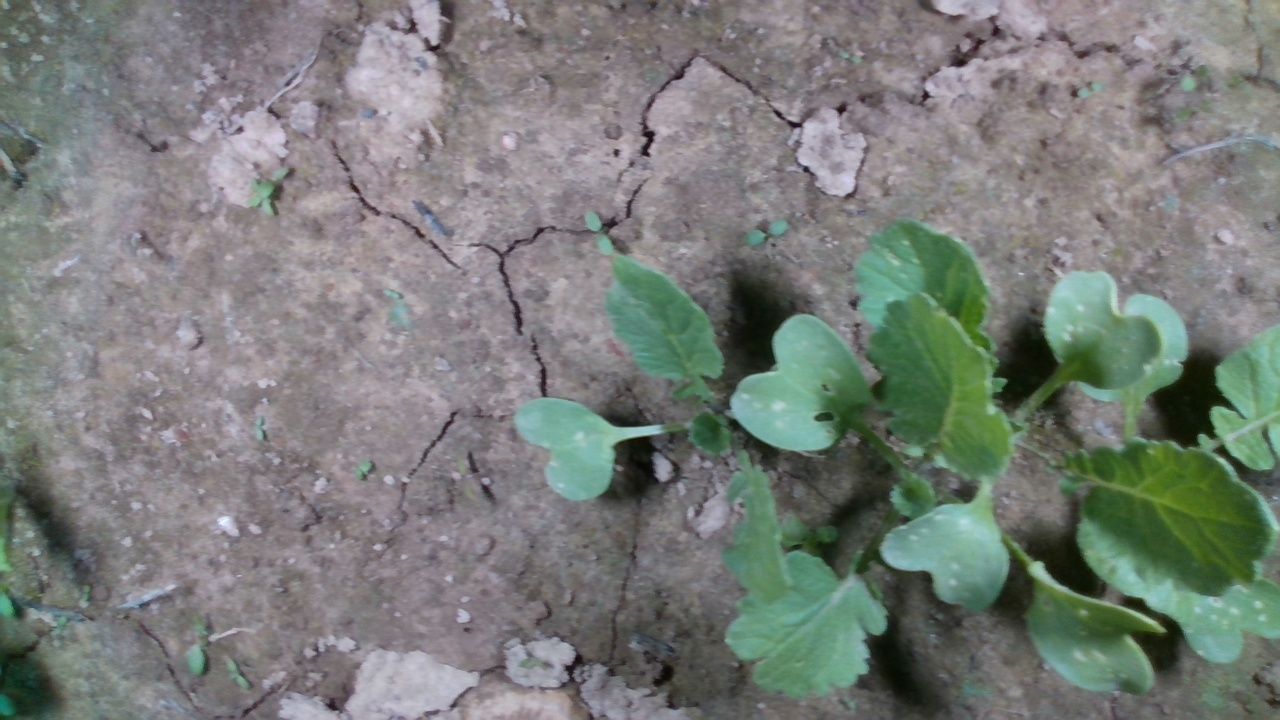weed: (574, 204, 622, 261), (739, 211, 785, 251), (222, 654, 252, 691)
